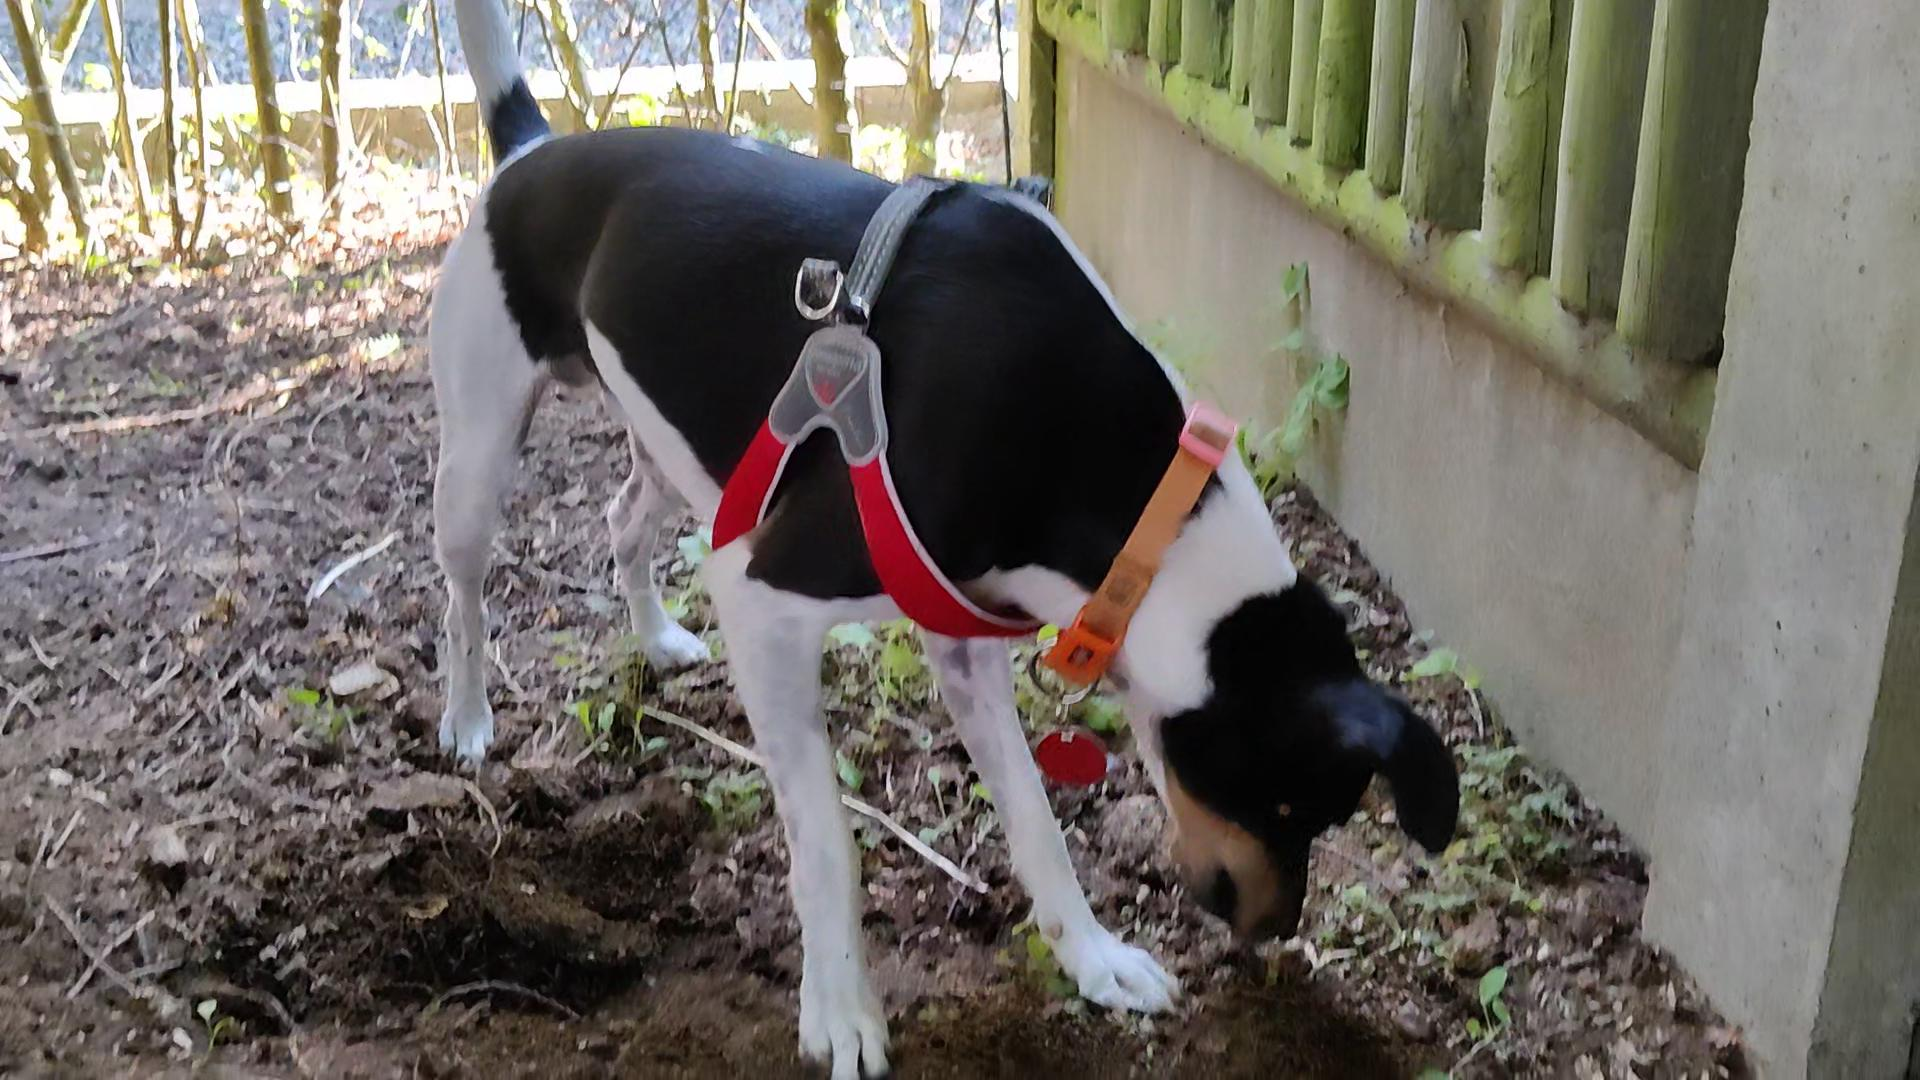Dog: (389, 0, 1465, 1080)
